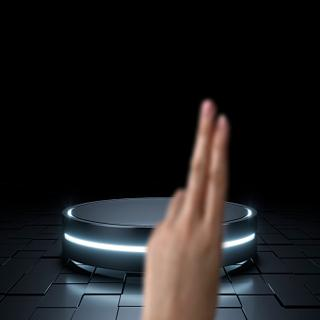DHAVE: (135, 94, 238, 320)
